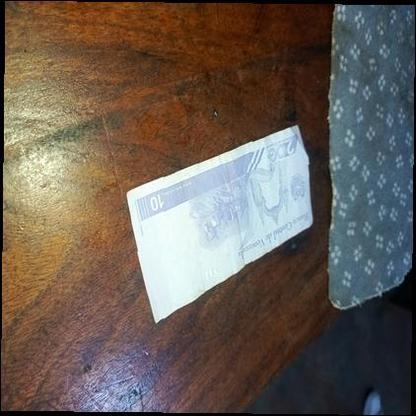ten-back-vef: (126, 124, 313, 326)
